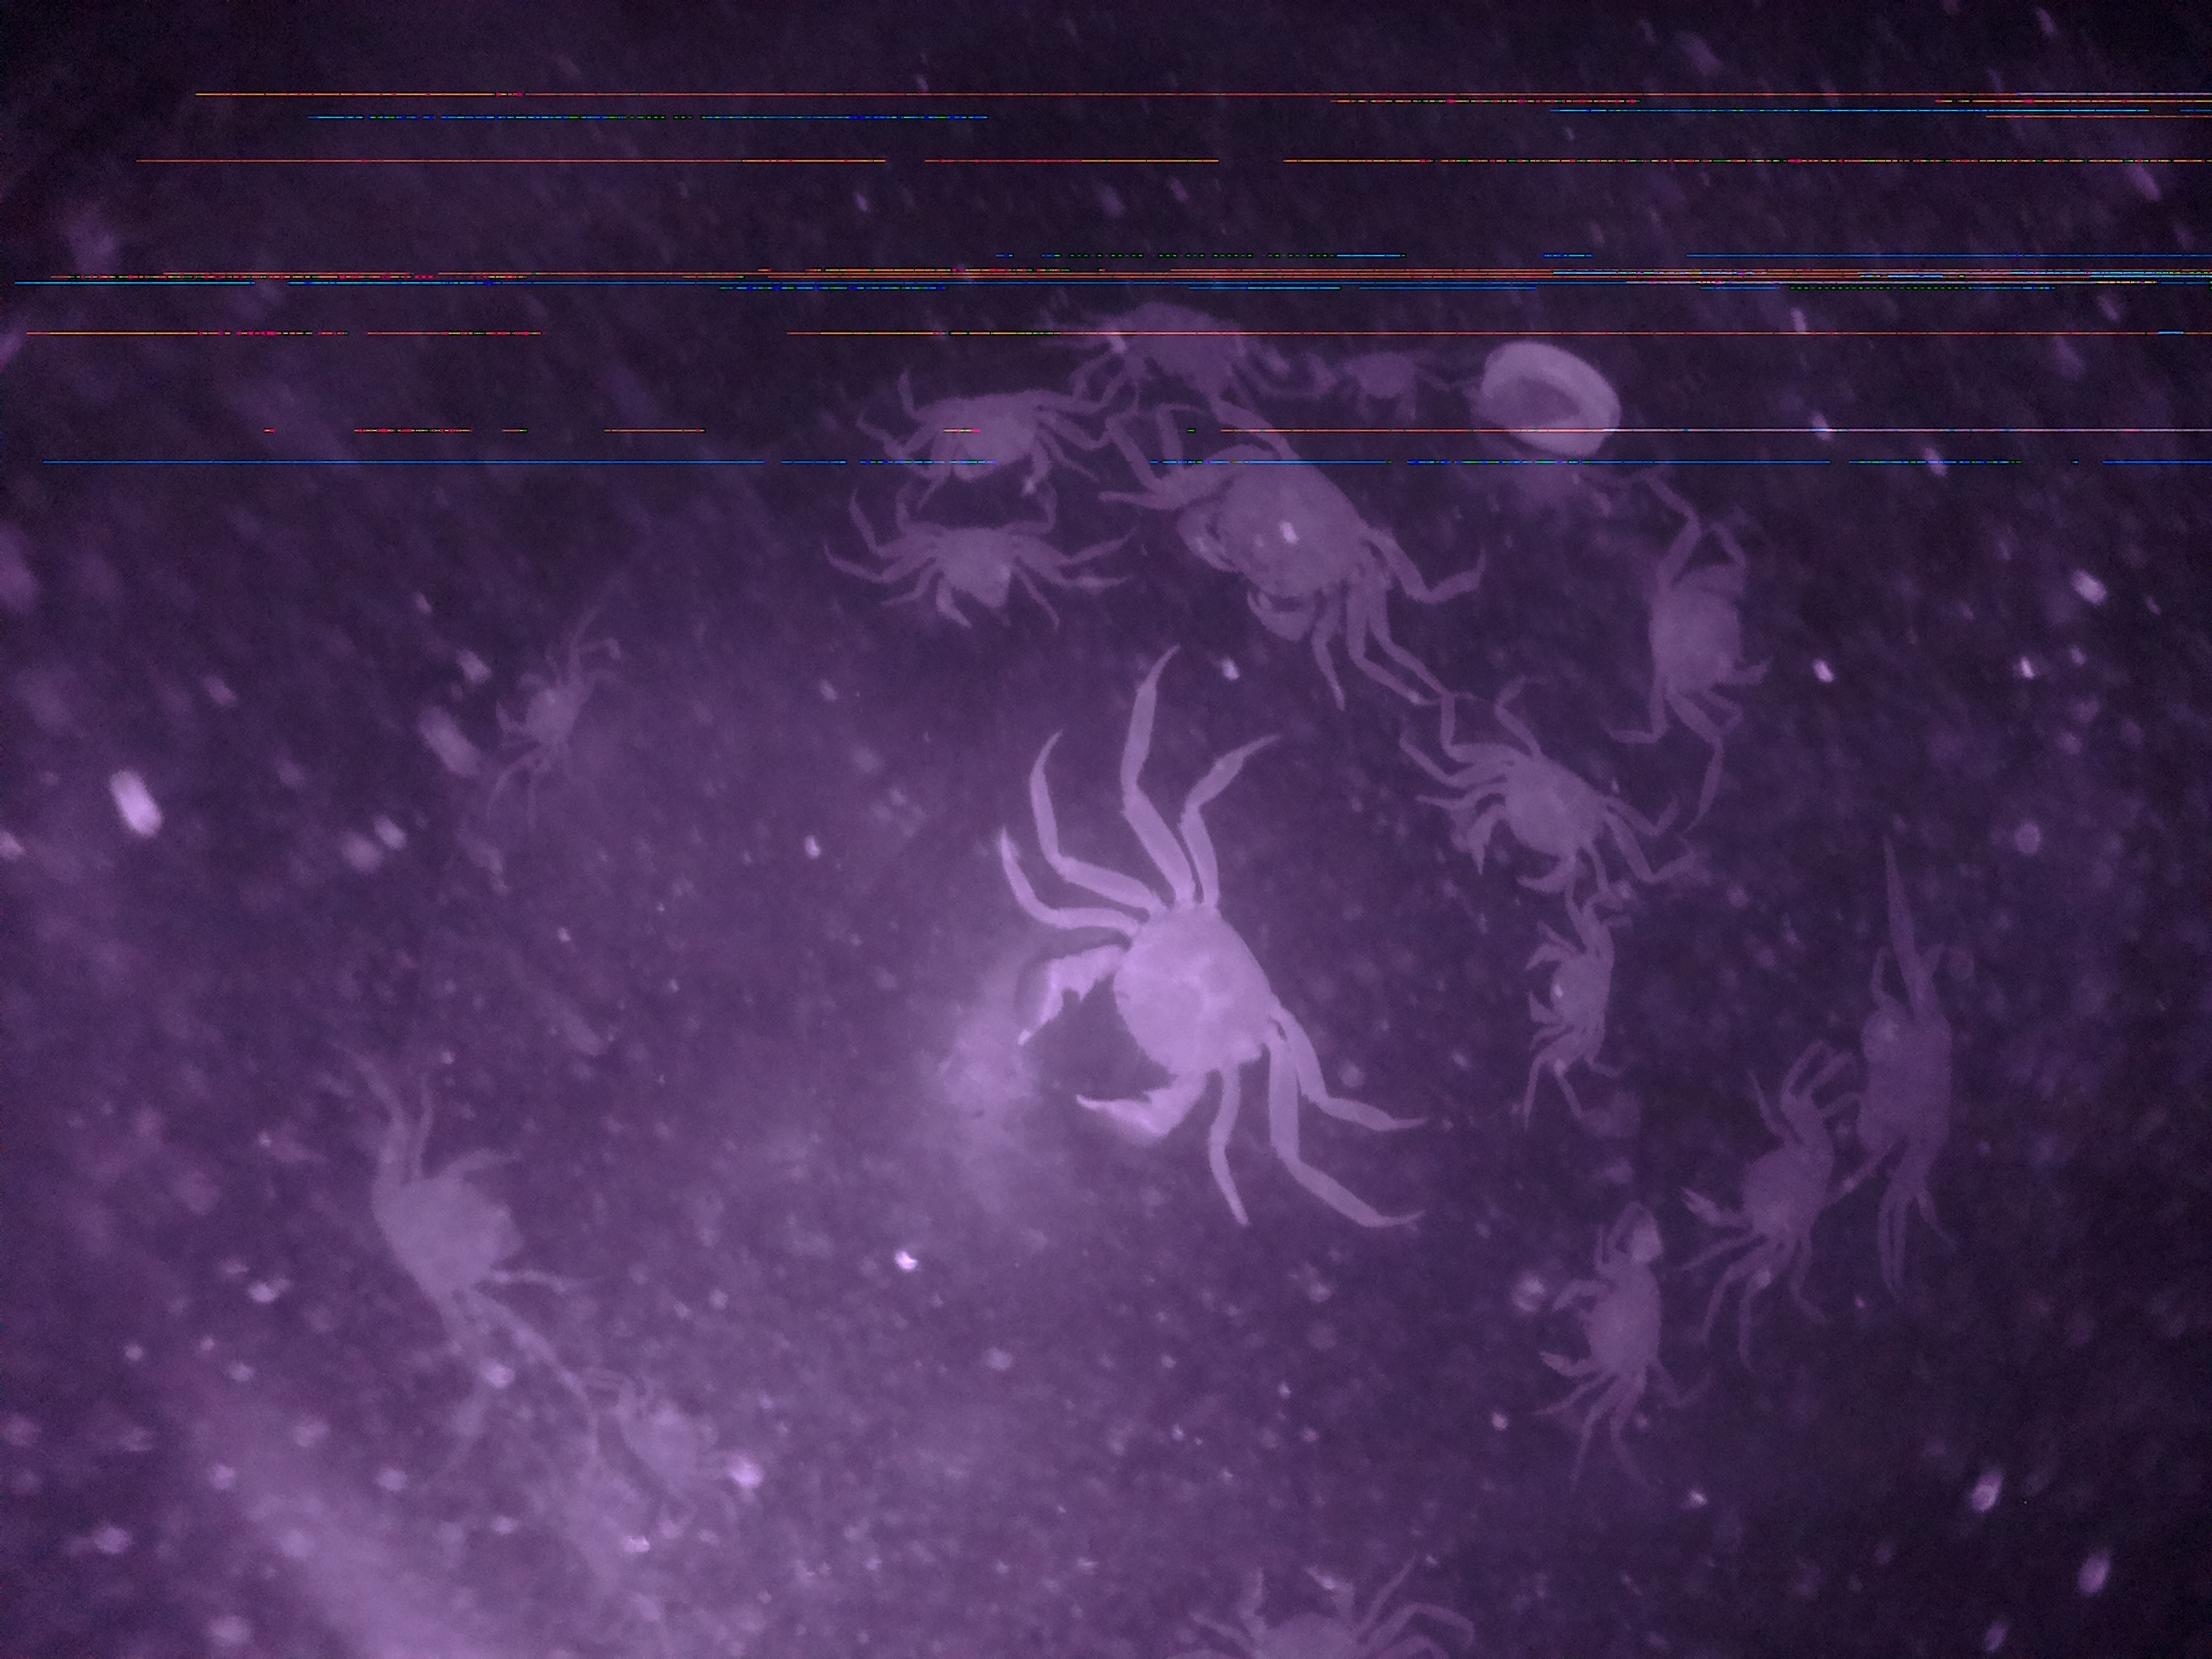Crab: (981, 870, 1294, 1168), (1684, 1077, 1857, 1291), (1627, 533, 1801, 721), (1433, 735, 1620, 906), (1514, 1243, 1679, 1405), (899, 502, 1055, 636), (1515, 908, 1639, 1072)
